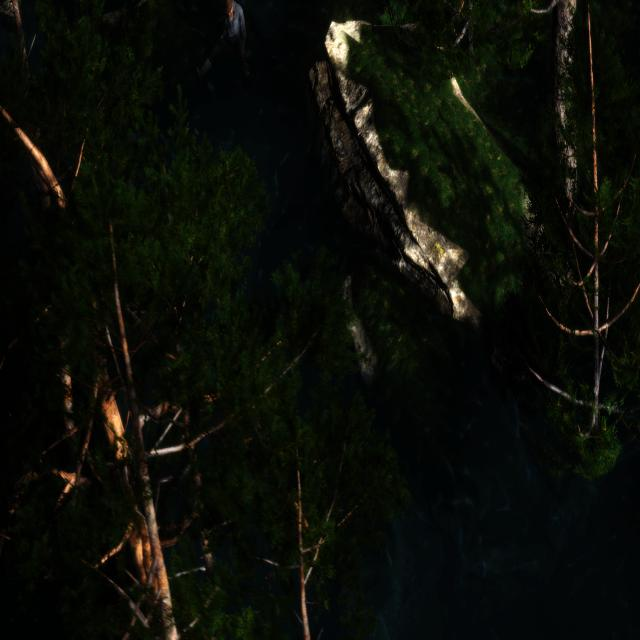Human: (194, 0, 251, 94)
